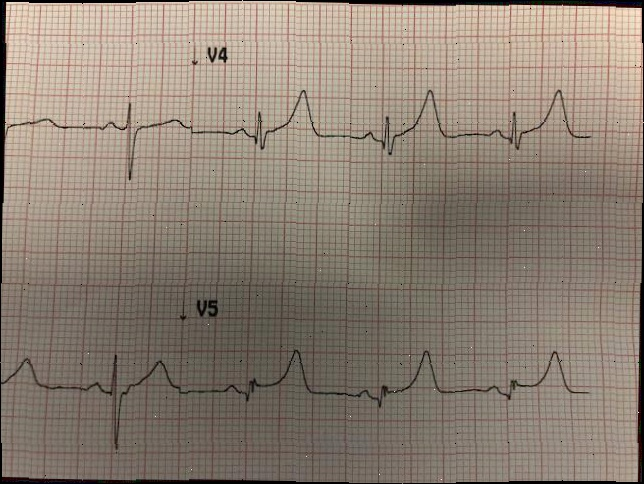Lead_V4: (1, 27, 605, 206)
Lead_V5: (0, 279, 608, 473)
